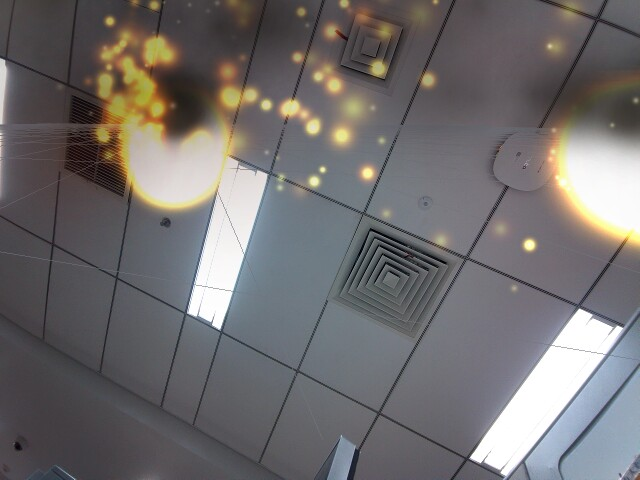fire: (120, 90, 237, 217), (551, 77, 640, 241)
